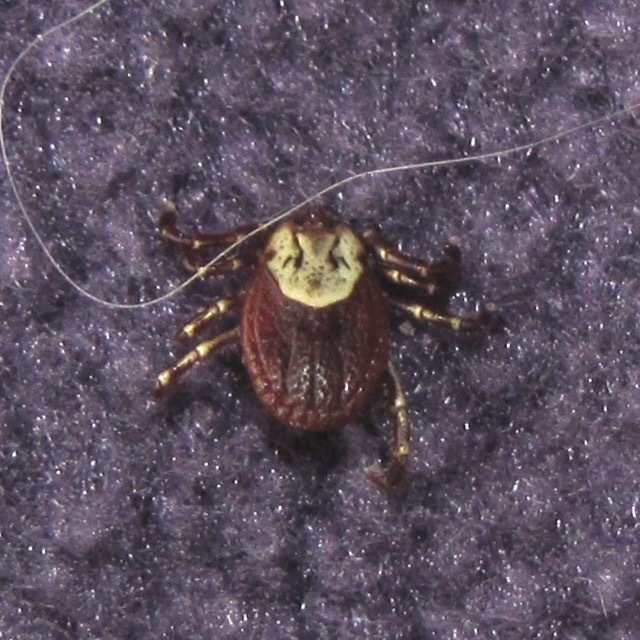garrapata: (142, 185, 506, 493)
